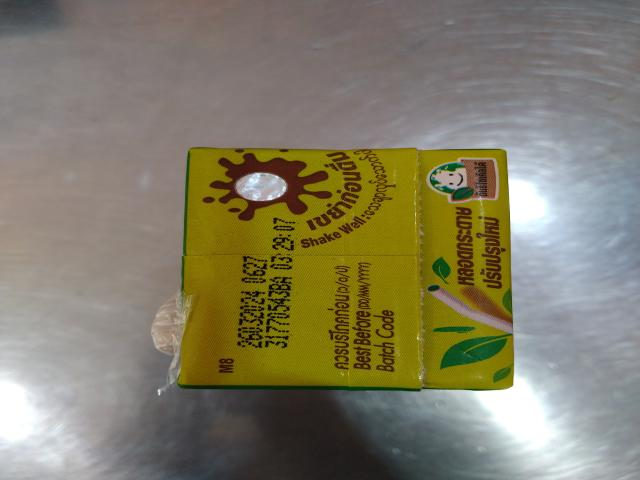drink_box: (136, 134, 544, 403)
